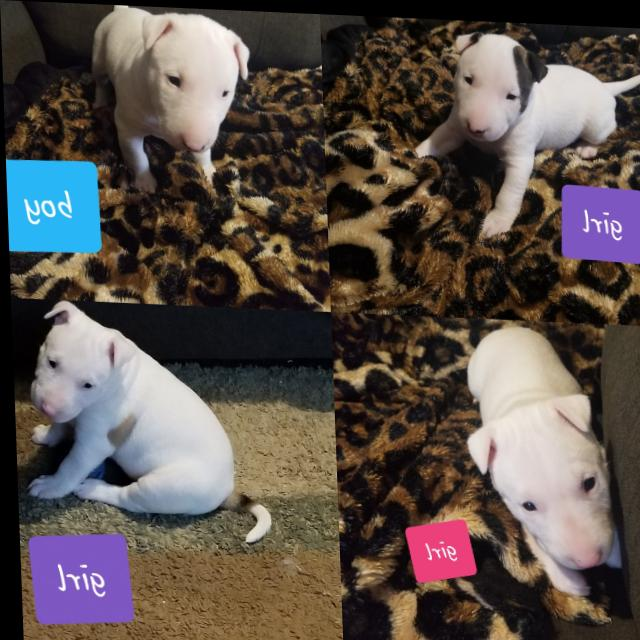bullterrier: (19, 298, 270, 543), (410, 24, 640, 241), (461, 320, 617, 594), (90, 5, 256, 197)
